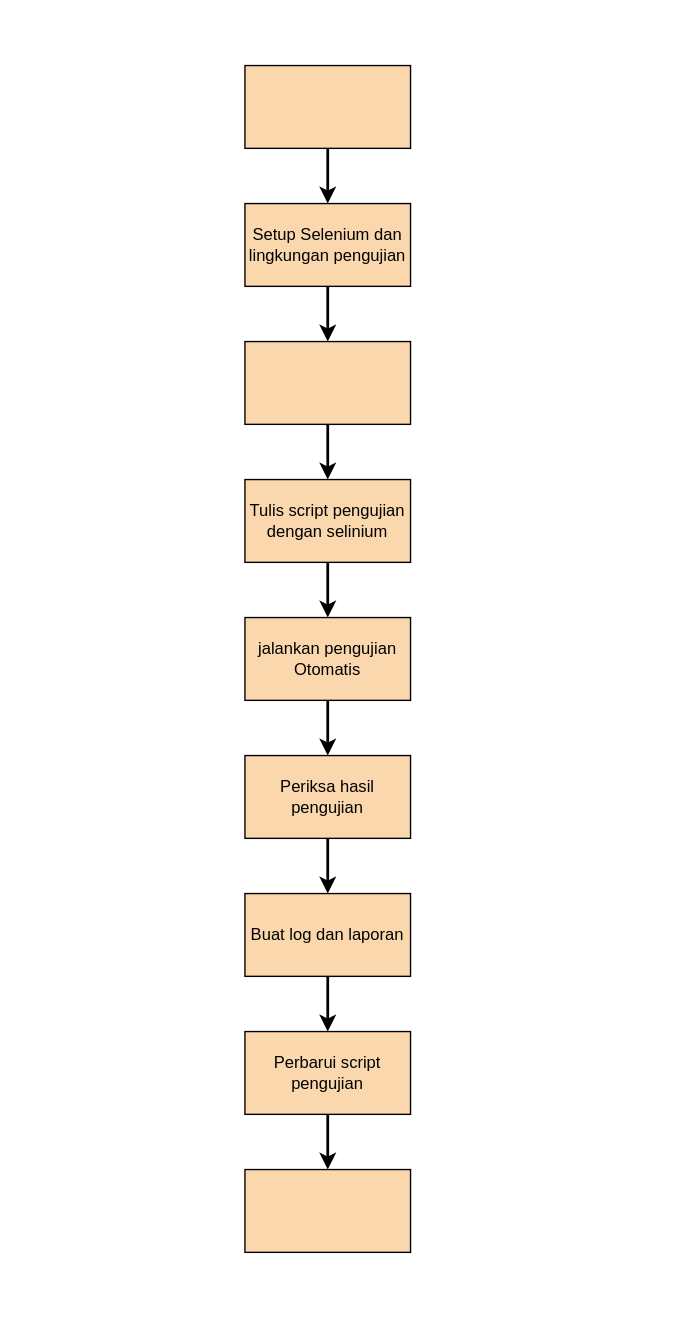
Some shapes in this 697 by 1332 pixel diagram are drawn without their labels. The box of each missing label's shape, as (x1, y1, x2, y2) in pixels:
Indentifikasi Test Case: (244, 340, 411, 424)
Integrasikan dengan CI/CD: (244, 1168, 411, 1252)
Rencanakan Pengujian (Test Plan): (244, 64, 411, 148)
